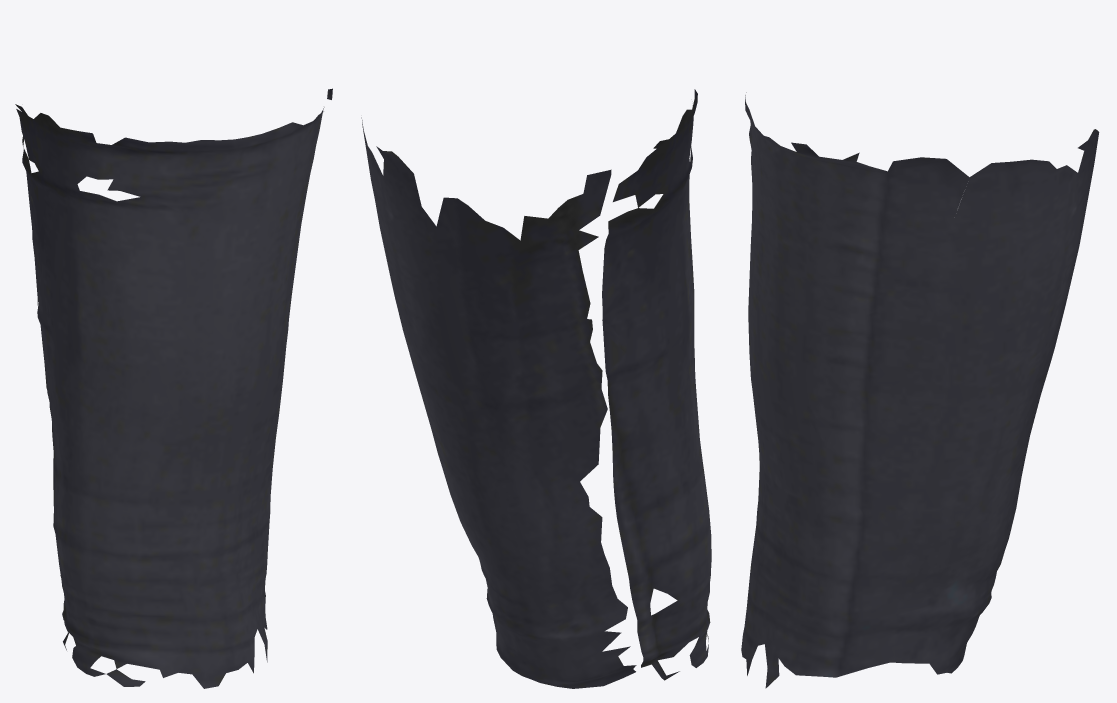
File: chicaunam_musloder.glb
The picture shows the model from 3 angles, left to right: view 1: azimuth 30°, elevation 25°; view 2: azimuth 150°, elevation 25°; view 3: azimuth 270°, elevation 25°; orthographic projection. The views are drawn at different scales.
Parts seen in each view (by area): view 1: Object_5.001; view 2: Object_5.001; view 3: Object_5.001.
Part boxes in pixels (x1=…): Object_5.001: x1=15, y1=88, x2=332, y2=688; Object_5.001: x1=361, y1=89, x2=711, y2=688; Object_5.001: x1=741, y1=92, x2=1099, y2=688.
Size of the model in its own units: 0.7333 by 1.4 by 0.7779.
1 material, 1 textured.
